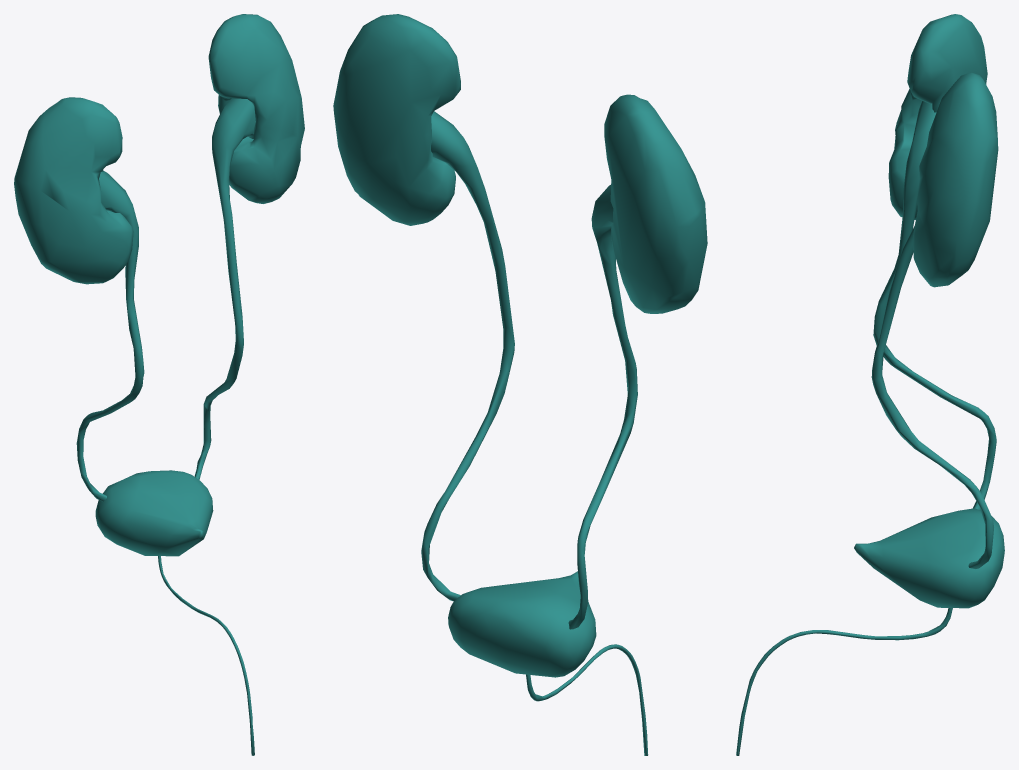
File: urinary.glb
3 renders of one model, left to right at view 1: azimuth 30°, elevation 25°; view 2: azimuth 150°, elevation 25°; view 3: azimuth 270°, elevation 25°, orthographic. The views are drawn at different scales.
Visible parts, largest first — view 1: FJ3147, FJ3145, FJ3149, FJ3144, FJ3146, FJ3148; view 2: FJ3145, FJ3147, FJ3149, FJ3144, FJ3146, FJ3148; view 3: FJ3145, FJ3149, FJ3147, FJ3146, FJ3144, FJ3148.
Boxes of the visible parts, x1,y1,x2,y2 form: FJ3147: [14, 97, 133, 284]; FJ3145: [208, 14, 304, 203]; FJ3149: [95, 470, 213, 556]; FJ3144: [194, 98, 255, 479]; FJ3146: [76, 171, 144, 501]; FJ3148: [158, 556, 254, 755]; FJ3145: [333, 14, 460, 225]; FJ3147: [604, 94, 707, 313]; FJ3149: [448, 571, 596, 677]; FJ3144: [421, 111, 514, 601]; FJ3146: [568, 185, 637, 629]; FJ3148: [526, 644, 648, 755]; FJ3145: [913, 72, 998, 287]; FJ3149: [854, 508, 1004, 608]; FJ3147: [888, 14, 987, 219]; FJ3146: [873, 101, 996, 510]; FJ3144: [871, 226, 993, 568]; FJ3148: [736, 608, 952, 755].
Bounding box in the file's own units: 0.1776 × 0.3818 × 0.1276.
